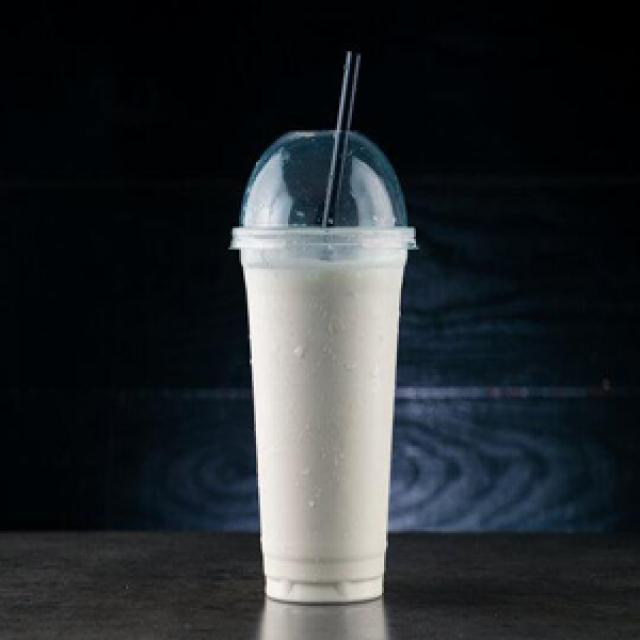plastic cup: (224, 130, 422, 612)
